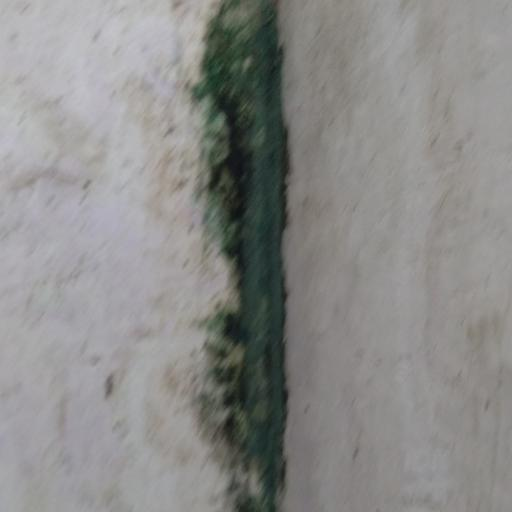algae: (170, 0, 334, 512)
